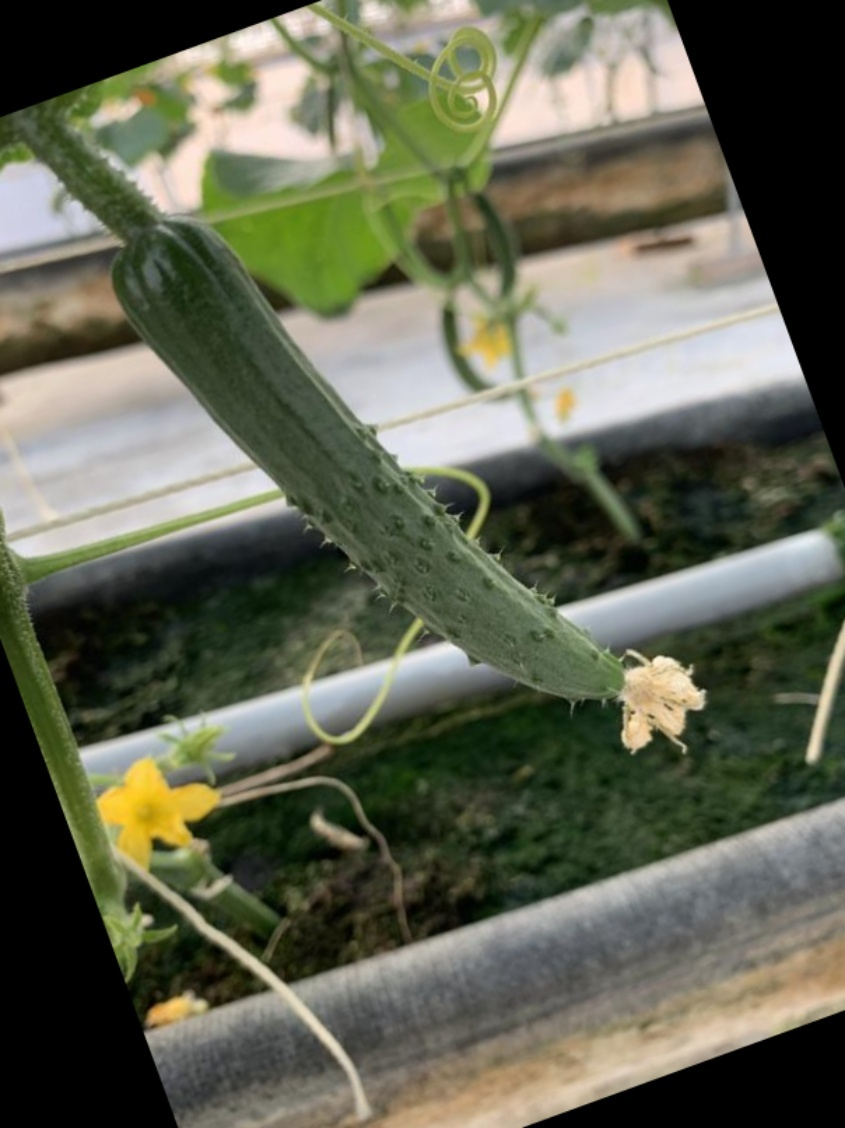growth: (109, 203, 648, 726)
